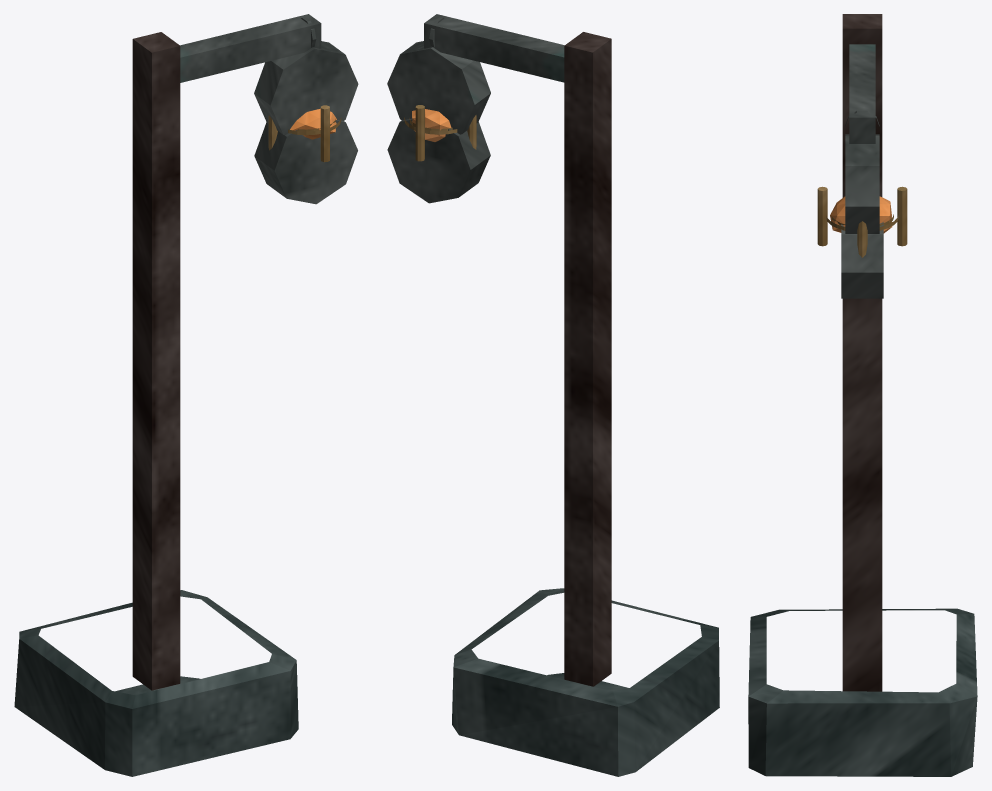
Rendered from 0715_lantern_post_15.glb.
The picture shows the model from 3 angles, left to right: view 1: azimuth 30°, elevation 25°; view 2: azimuth 150°, elevation 25°; view 3: azimuth 270°, elevation 25°; orthographic projection. The views are drawn at different scales.
Parts seen in each view (by area): view 1: wood_dark, stone_dark, iron, brass, amber; view 2: wood_dark, stone_dark, iron, brass, amber; view 3: stone_dark, wood_dark, iron, brass, amber.
Boxes of the visible parts, <box> form: wood_dark: <box>132,32,180,690</box>; stone_dark: <box>14,590,298,776</box>; iron: <box>180,14,358,204</box>; brass: <box>268,105,341,162</box>; amber: <box>290,108,336,139</box>; wood_dark: <box>564,32,611,686</box>; stone_dark: <box>452,588,719,776</box>; iron: <box>387,14,564,203</box>; brass: <box>404,105,476,161</box>; amber: <box>412,109,451,141</box>; stone_dark: <box>748,608,977,776</box>; wood_dark: <box>842,14,882,691</box>; iron: <box>841,44,883,298</box>; brass: <box>817,186,907,257</box>; amber: <box>830,196,892,233</box>.
Size of the model in its own units: 1.31 by 2.97 by 0.8635.
Materials: 5 (5 with a texture image).
